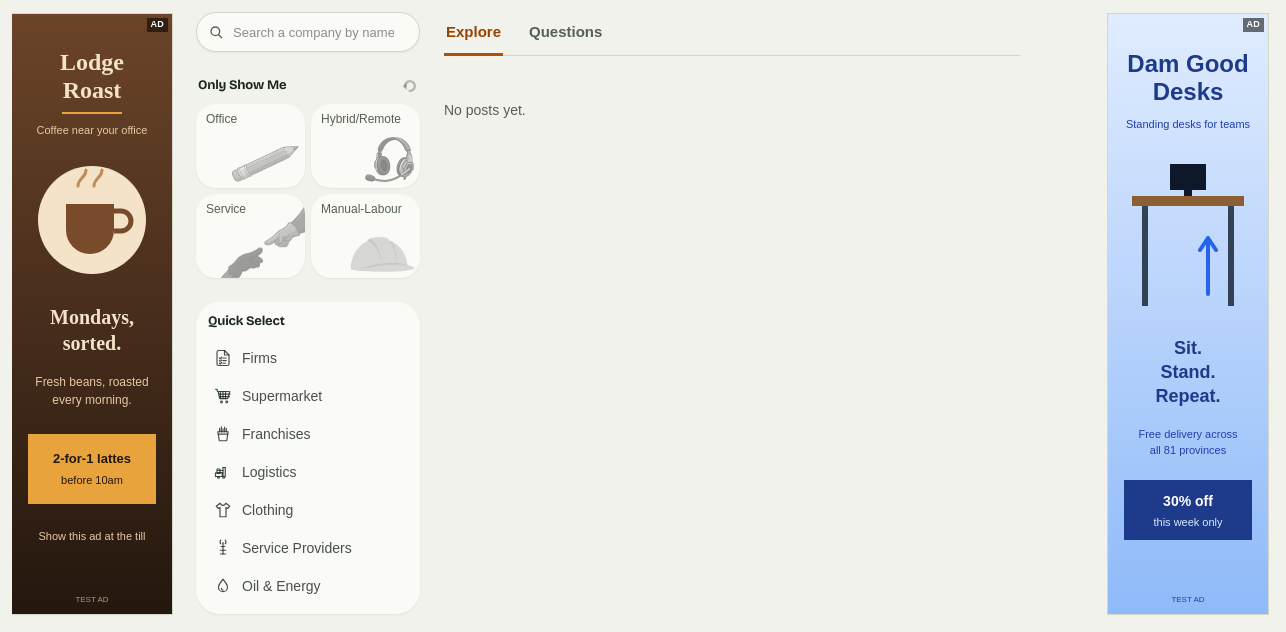
Test case: an owner (who can't follow or save) gets Explore and Questions only
Click the tab "Questions".
click(566, 34)  # box [527, 12, 604, 56]
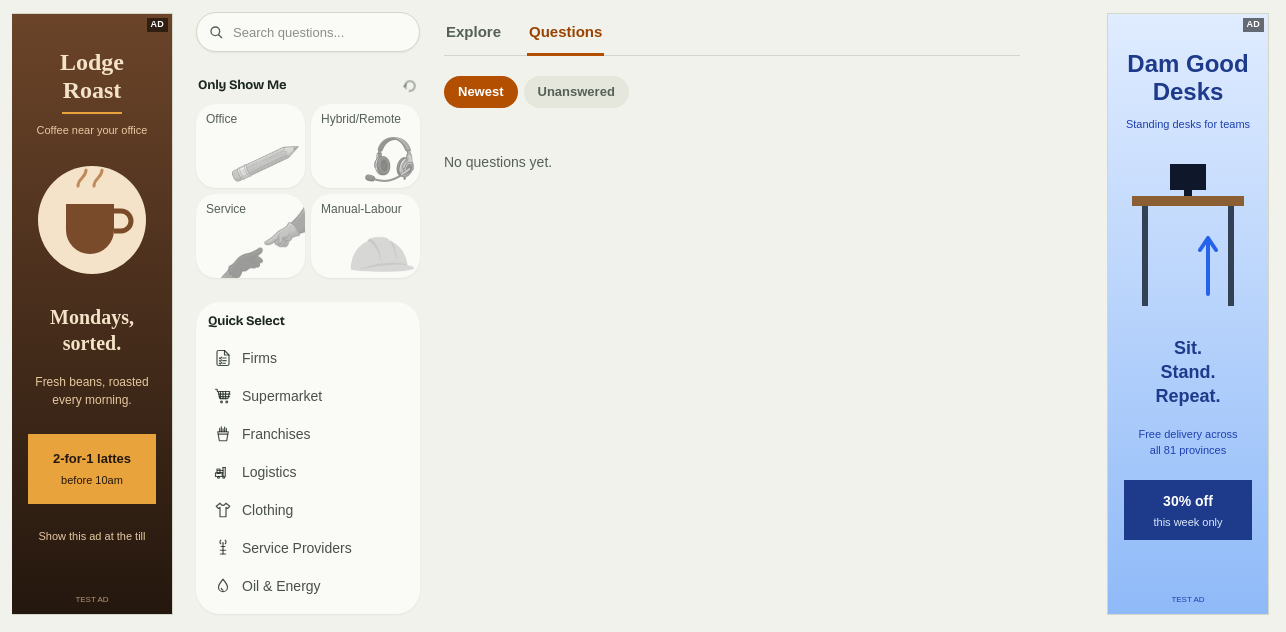
Expected: the text "No questions yet." is shown, [444, 154, 552, 170]
